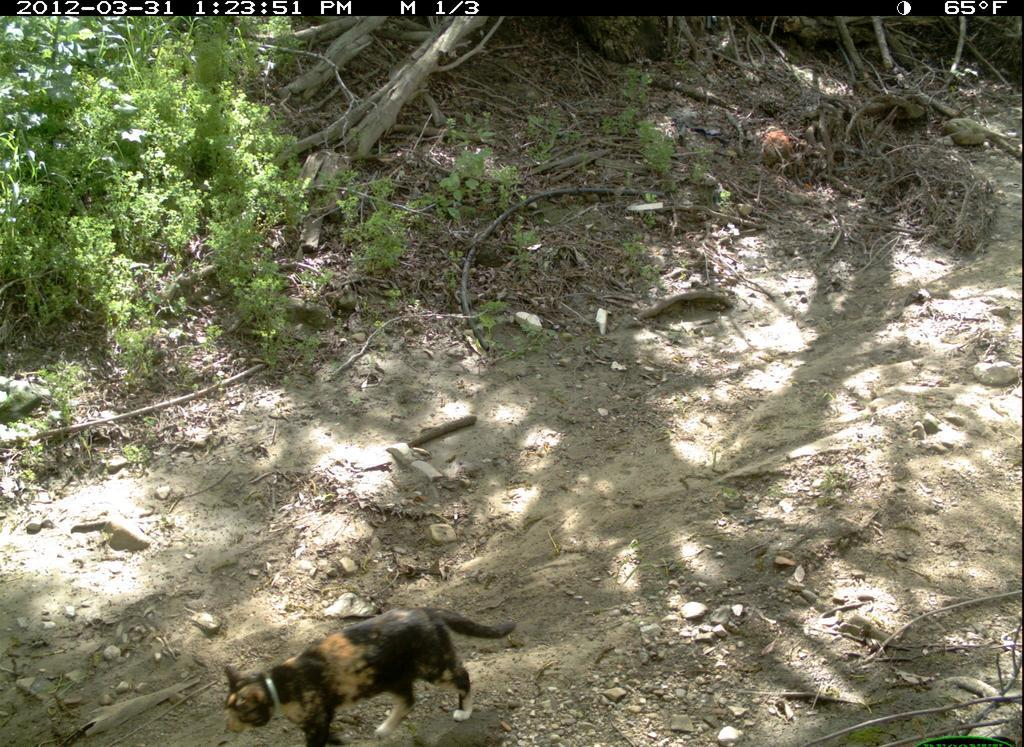cat: (213, 592, 528, 747)
